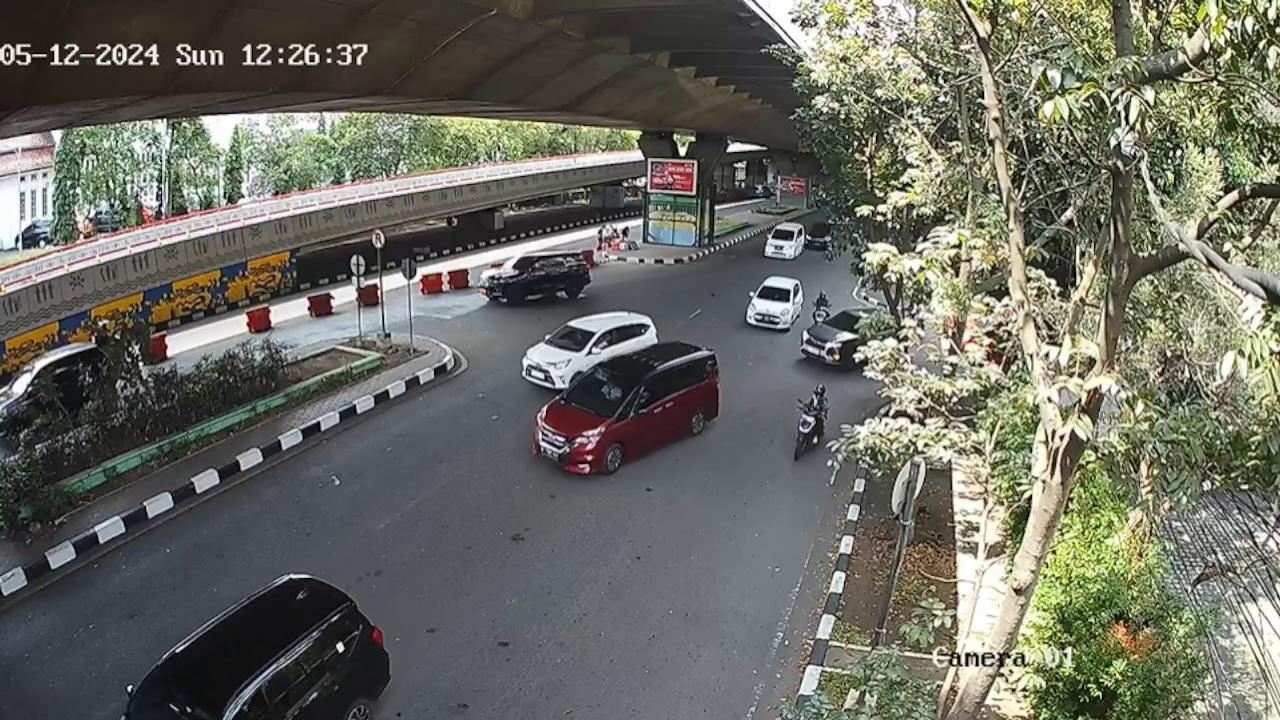pakai: (600, 381, 621, 403)
windshield: (566, 369, 634, 421), (545, 318, 595, 353)
